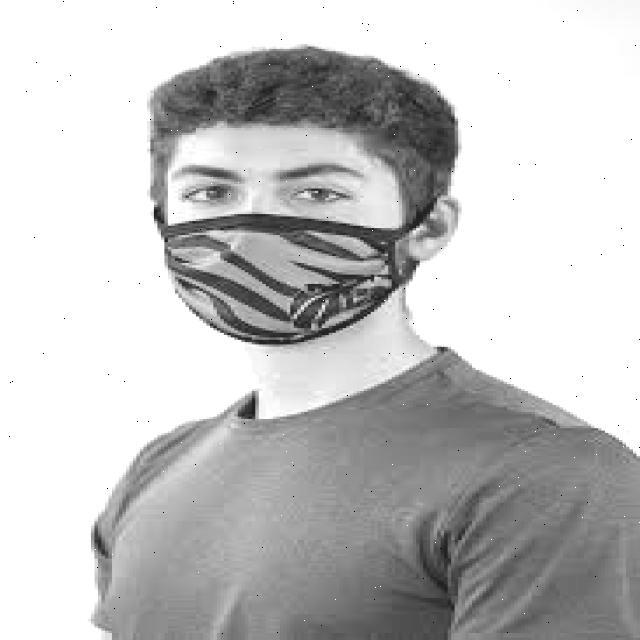fake: (162, 215, 421, 347)
real: (166, 125, 406, 358)
